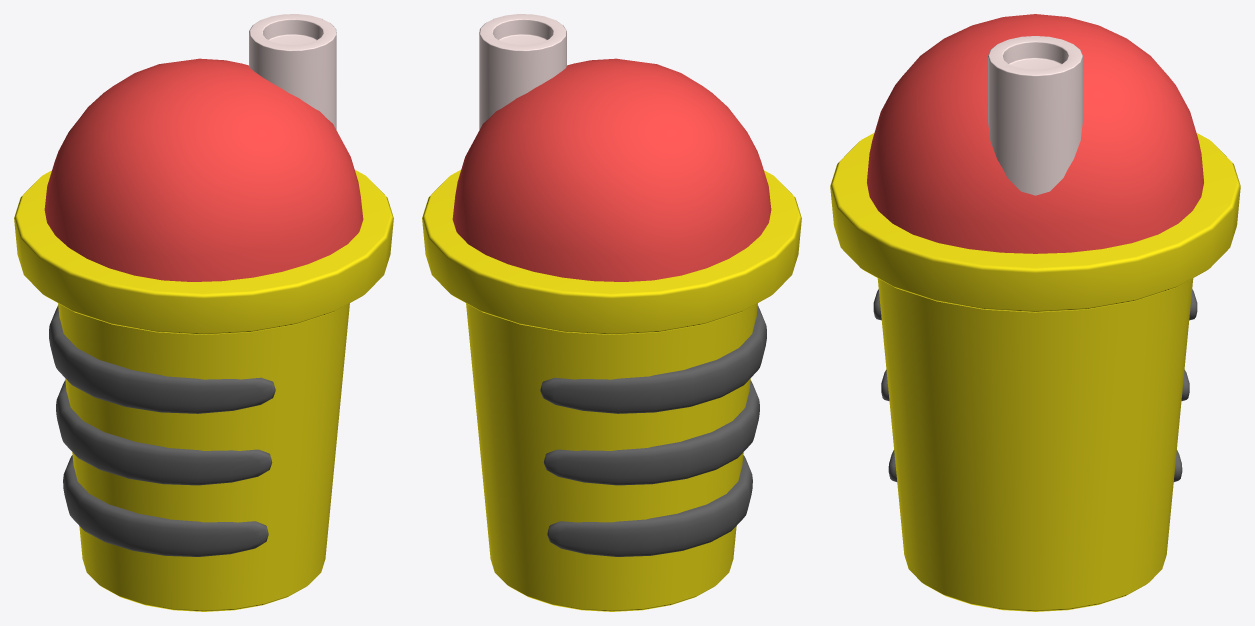
Rendered from Public_18_Gym_Bottle_1.glb.
The picture shows the model from 3 angles, left to right: view 1: azimuth 30°, elevation 25°; view 2: azimuth 150°, elevation 25°; view 3: azimuth 270°, elevation 25°; orthographic projection. The views are drawn at different scales.
Visible parts, largest first — view 1: Public_18_Gym_Bottle_1; view 2: Public_18_Gym_Bottle_1; view 3: Public_18_Gym_Bottle_1.
Part boxes in pixels (x1=…): Public_18_Gym_Bottle_1: x1=14, y1=14, x2=393, y2=611; Public_18_Gym_Bottle_1: x1=422, y1=14, x2=801, y2=611; Public_18_Gym_Bottle_1: x1=830, y1=14, x2=1240, y2=611.
Bounding box in the file's own units: 1.11 × 1.63 × 1.11.
Materials: 1 (1 with a texture image).
